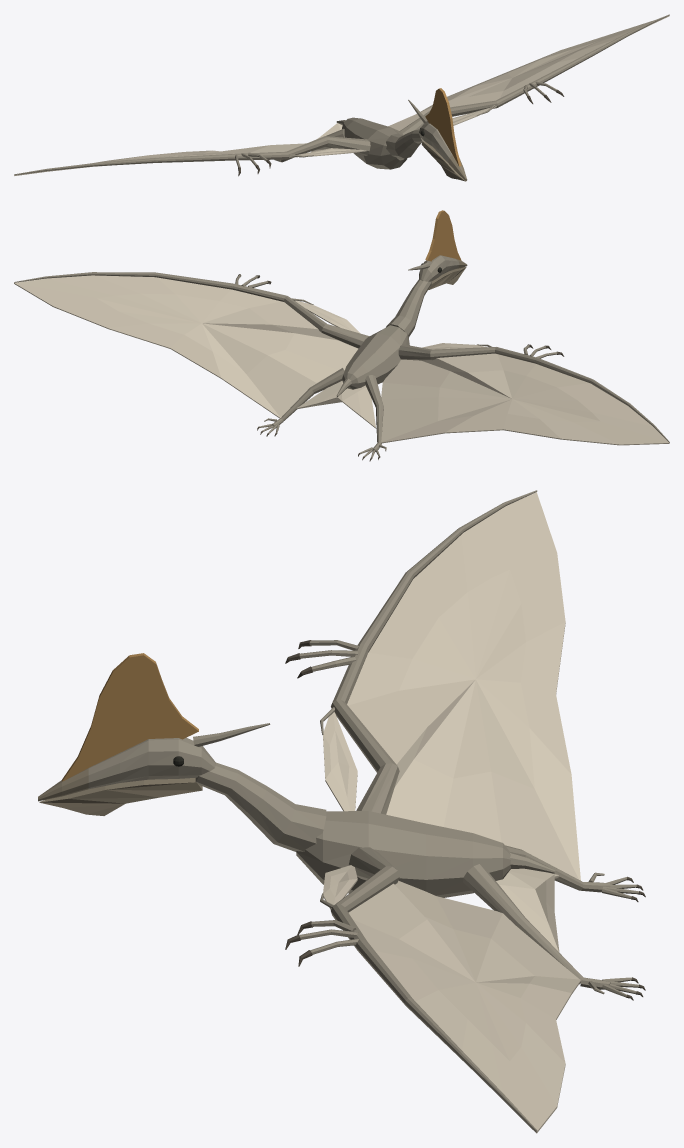
3 views of the same model, one above another, from view 1: azimuth 30°, elevation 25°; view 2: azimuth 150°, elevation 25°; view 3: azimuth 270°, elevation 25° (orthographic). The views are drawn at different scales.
Parts seen in each view (by area): view 1: 08-right-closed-wing-membranes, 01-torso-neck-pelvis-tail, 07-left-wing-skeletal-support, 07-right-wing-skeletal-support, 08-left-closed-wing-membranes, 03-compact-premaxillary-crest, 02-head-short-downturned-beak, 04-mandible-ventral-crest; view 2: 08-right-closed-wing-membranes, 08-left-closed-wing-membranes, 01-torso-neck-pelvis-tail, 07-right-wing-skeletal-support, 07-left-wing-skeletal-support, 13-small-interfemoral-membrane, 03-compact-premaxillary-crest, 11-right-leg-foot-four-toes-plus-reduced-V, 11-left-leg-foot-four-toes-plus-reduced-V, 02-head-short-downturned-beak; view 3: 08-left-closed-wing-membranes, 08-right-closed-wing-membranes, 01-torso-neck-pelvis-tail, 03-compact-premaxillary-crest, 07-left-wing-skeletal-support, 02-head-short-downturned-beak, 07-right-wing-skeletal-support, 04-mandible-ventral-crest, 11-right-leg-foot-four-toes-plus-reduced-V, 13-small-interfemoral-membrane, 11-left-leg-foot-four-toes-plus-reduced-V, 09-left-three-manual-digits-I-II-III (+1 smaller).
Boxes of the visible parts, box(x1,y1,x2,y2) form: 08-right-closed-wing-membranes: box(388, 15, 669, 130); 01-torso-neck-pelvis-tail: box(336, 117, 424, 169); 07-left-wing-skeletal-support: box(14, 136, 370, 174); 07-right-wing-skeletal-support: box(400, 14, 669, 134); 08-left-closed-wing-membranes: box(14, 143, 366, 175); 03-compact-premaxillary-crest: box(425, 88, 461, 166); 02-head-short-downturned-beak: box(419, 123, 467, 180); 04-mandible-ventral-crest: box(421, 141, 466, 181); 08-right-closed-wing-membranes: box(14, 275, 360, 418); 08-left-closed-wing-membranes: box(381, 343, 669, 445); 01-torso-neck-pelvis-tail: box(336, 279, 431, 396); 07-right-wing-skeletal-support: box(14, 272, 369, 348); 07-left-wing-skeletal-support: box(398, 344, 669, 442); 13-small-interfemoral-membrane: box(296, 381, 376, 428); 03-compact-premaxillary-crest: box(425, 210, 461, 261); 11-right-leg-foot-four-toes-plus-reduced-V: box(259, 368, 344, 433); 11-left-leg-foot-four-toes-plus-reduced-V: box(360, 375, 386, 457); 02-head-short-downturned-beak: box(419, 255, 467, 281); 08-left-closed-wing-membranes: box(323, 492, 580, 880); 08-right-closed-wing-membranes: box(323, 865, 580, 1133); 01-torso-neck-pelvis-tail: box(195, 762, 555, 897); 03-compact-premaxillary-crest: box(62, 653, 198, 781); 07-left-wing-skeletal-support: box(320, 490, 537, 814); 02-head-short-downturned-beak: box(38, 737, 215, 801); 07-right-wing-skeletal-support: box(320, 847, 537, 1131); 04-mandible-ventral-crest: box(39, 778, 202, 815); 11-right-leg-foot-four-toes-plus-reduced-V: box(463, 864, 638, 997); 13-small-interfemoral-membrane: box(496, 868, 559, 951); 11-left-leg-foot-four-toes-plus-reduced-V: box(505, 845, 638, 898); 09-left-three-manual-digits-I-II-III: box(299, 640, 358, 671).
Size of the model in its own units: 1.26 by 0.2662 by 0.5058.
